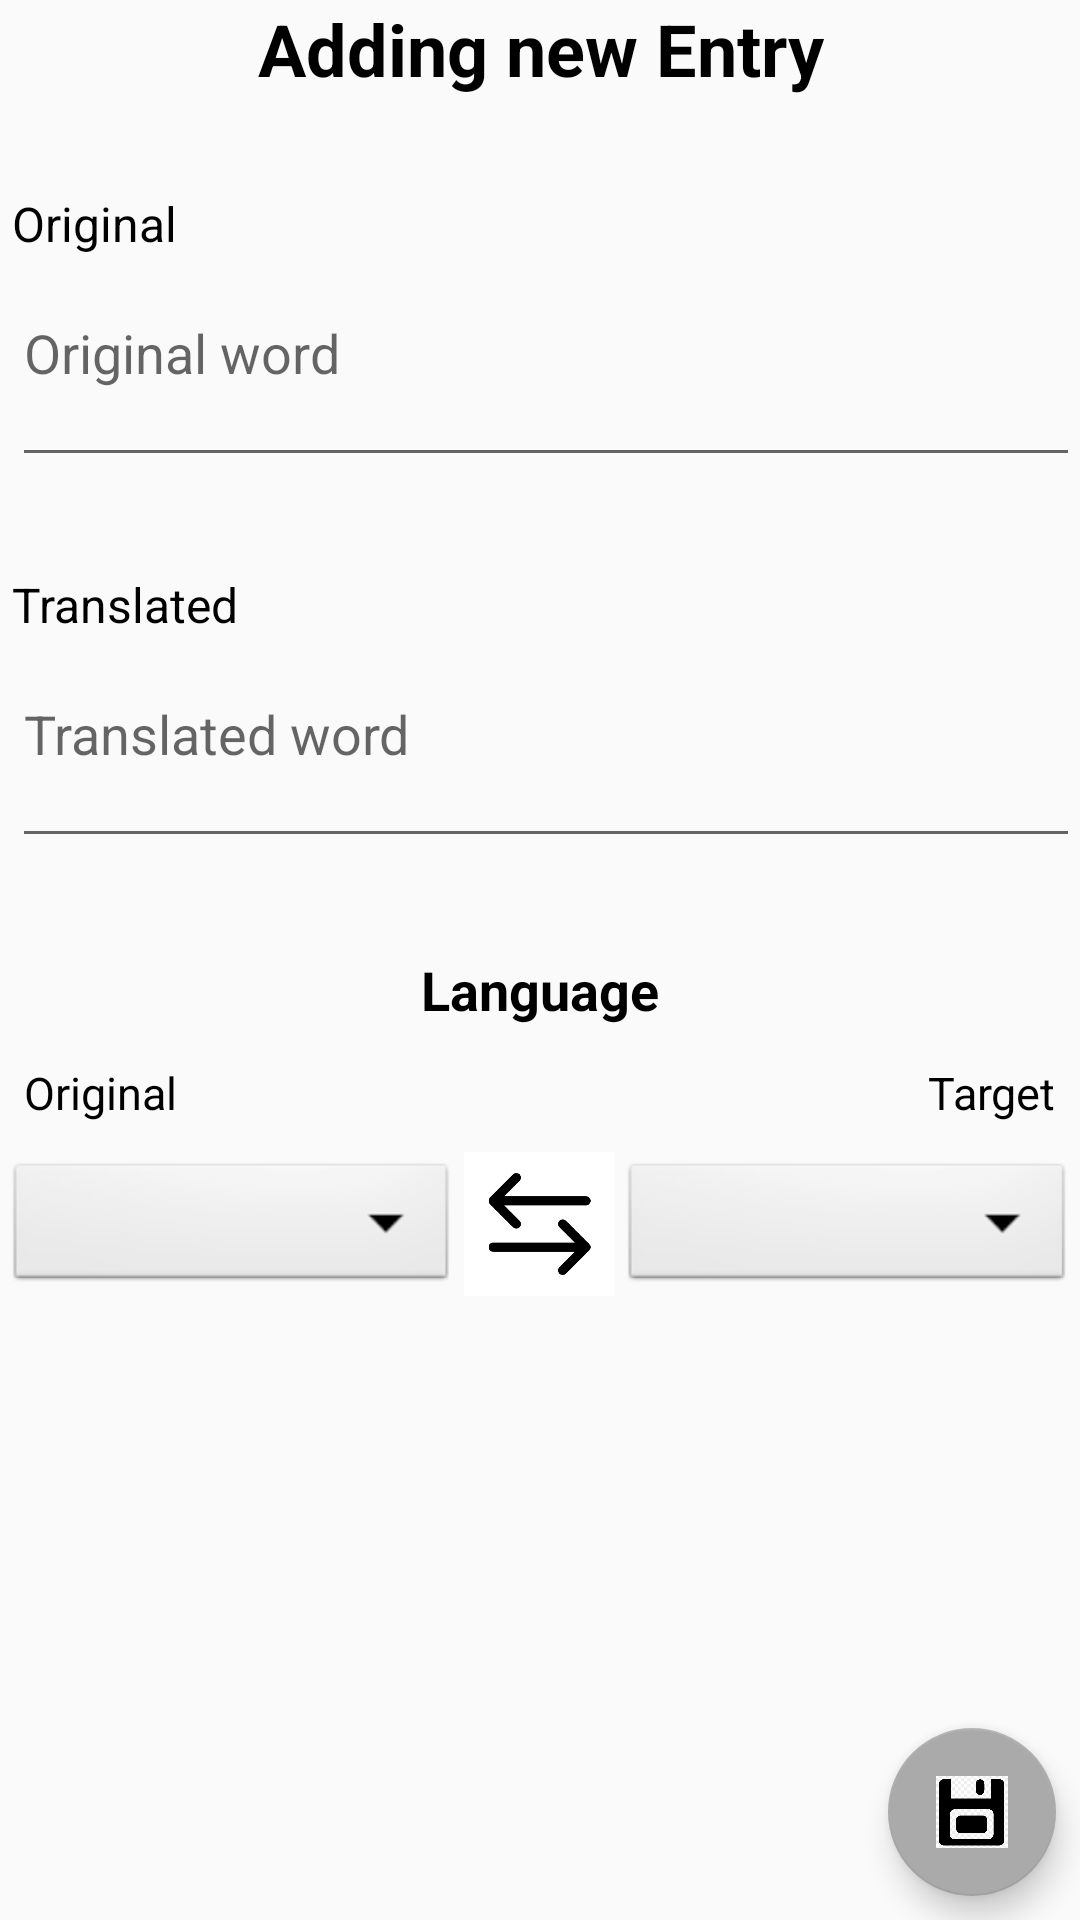

Icon bounding boxes for this 1080px x 1920px phone screenshot, format (x1,y1,x2,y2):
exchange: (489,1173,591,1275)
save fab: (888,1728,1056,1896)
